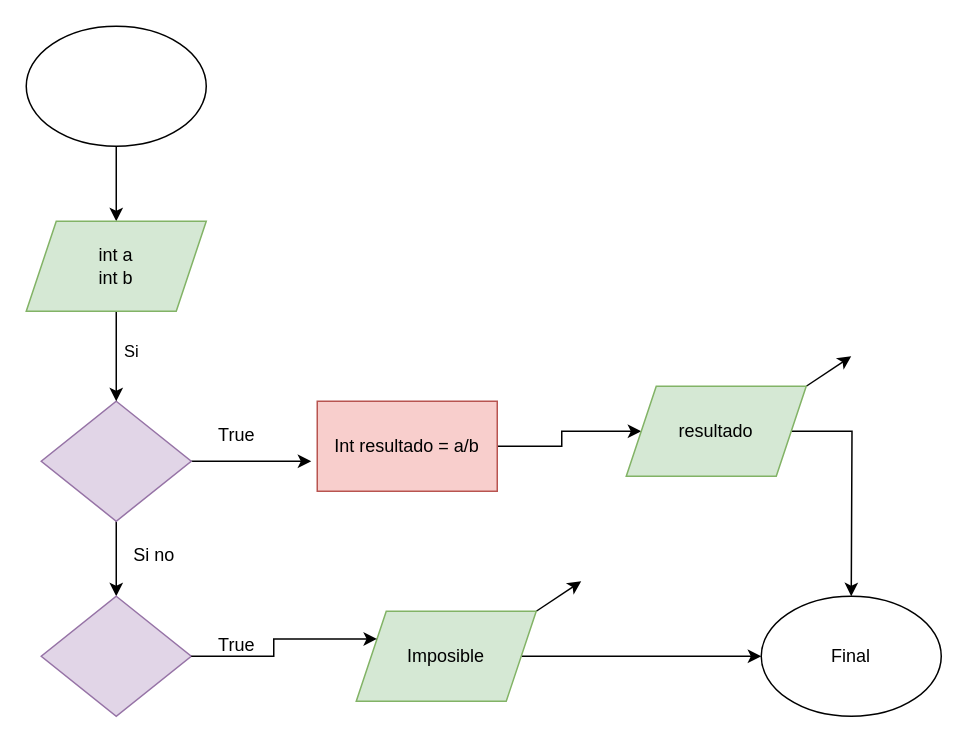
Some shapes in this 968 by 743 pixel diagram are drawn without their labels. Each missing label, with the centre of its shape:
b == 0: point (115, 655)
b>0 && a>0: point (115, 460)
Inicio: point (115, 85)
